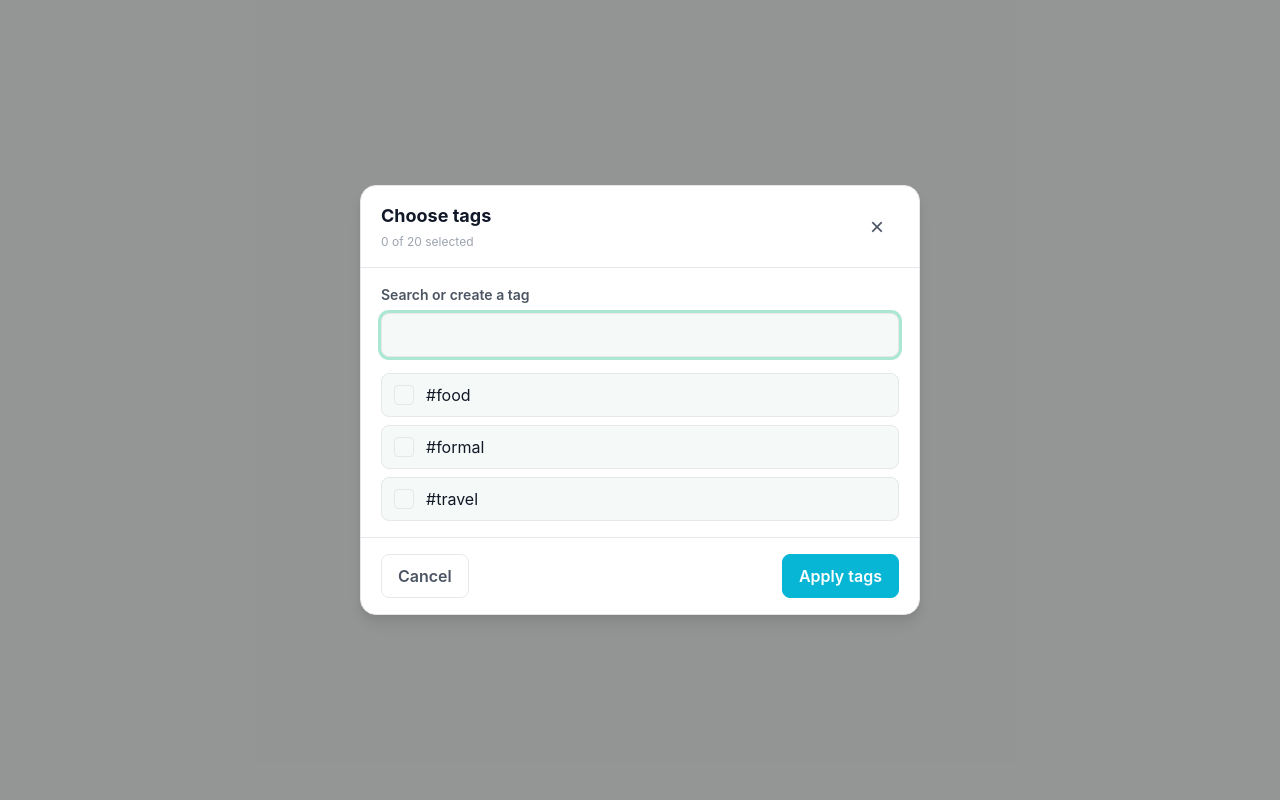
TagPickerDialog › filters tags by the search query
Type "foo" into the field labelled "Search or create a tag". click: (640, 335)
box: [381,313,899,357]
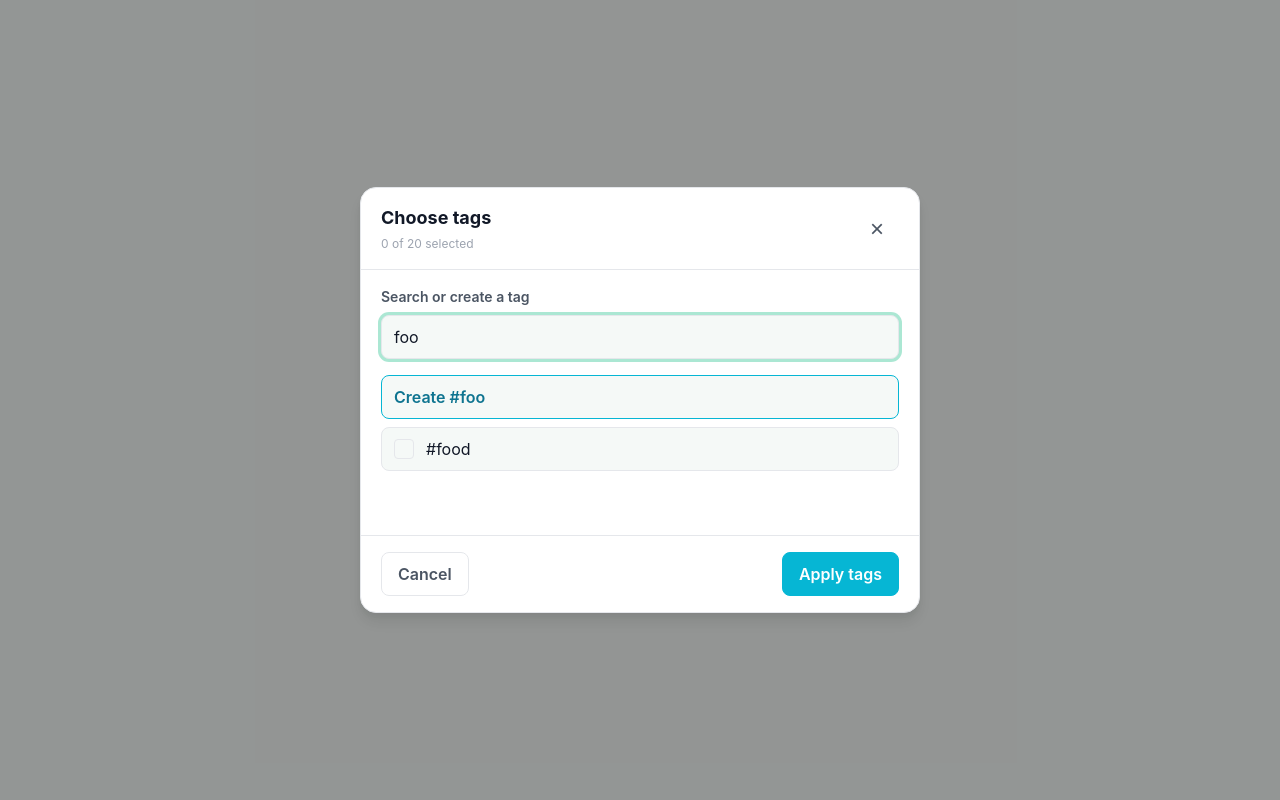
Check: the text "#food" is shown, box [426,437,471,461]
Check: the option "#travel" is gone
